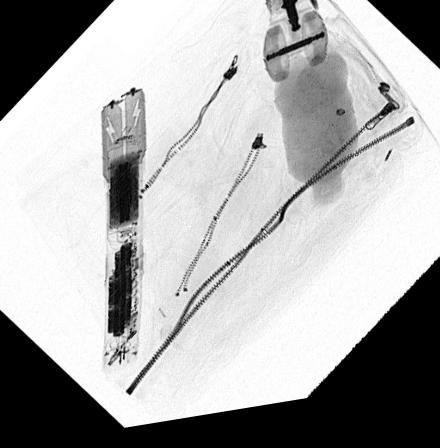Baton: (100, 89, 148, 377)
